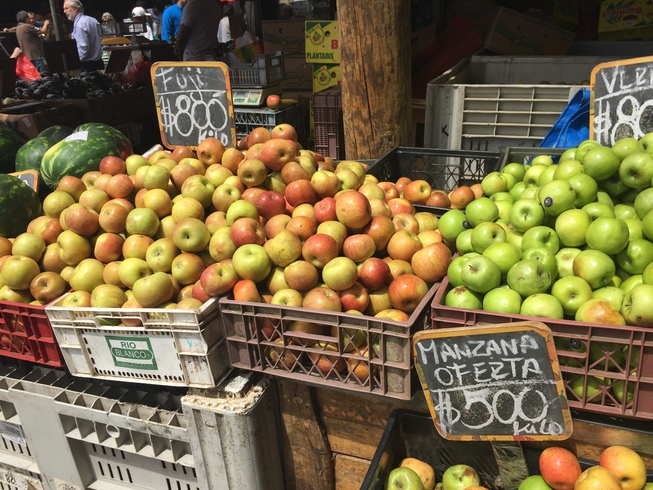precio: (406, 319, 584, 461), (147, 56, 243, 159), (588, 54, 653, 142)
